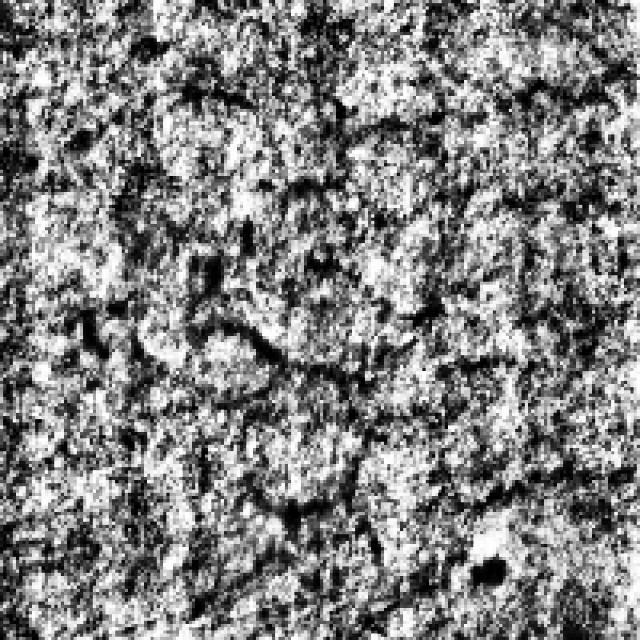Pitted_Surface: (147, 298, 538, 512), (179, 435, 515, 618)
